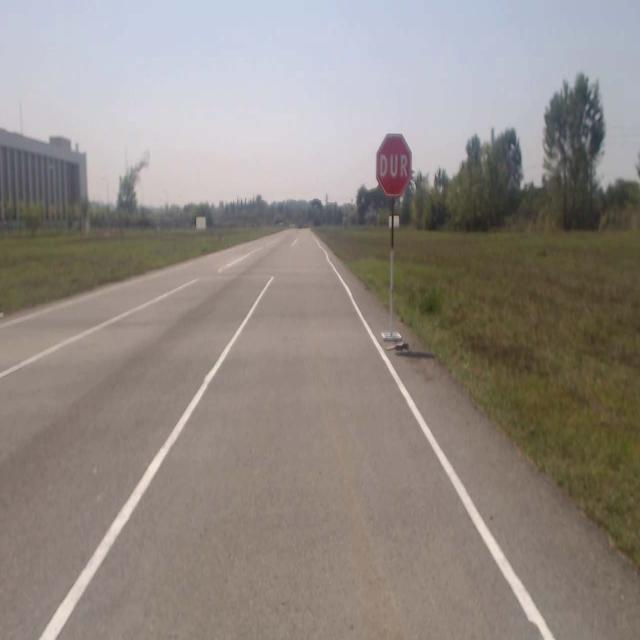dur: (376, 134, 412, 197)
